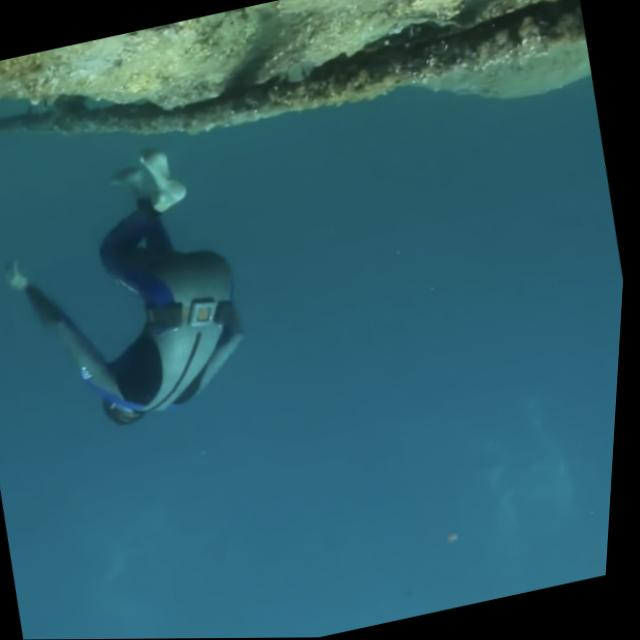human: (0, 130, 282, 456)
